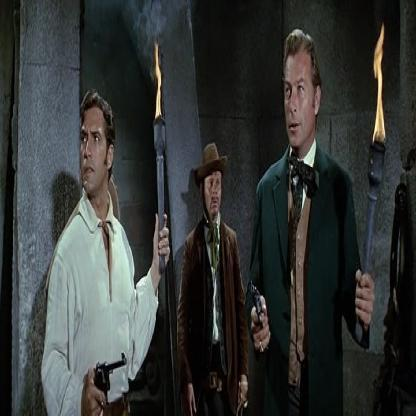gun: (90, 345, 134, 408), (235, 274, 273, 344)
